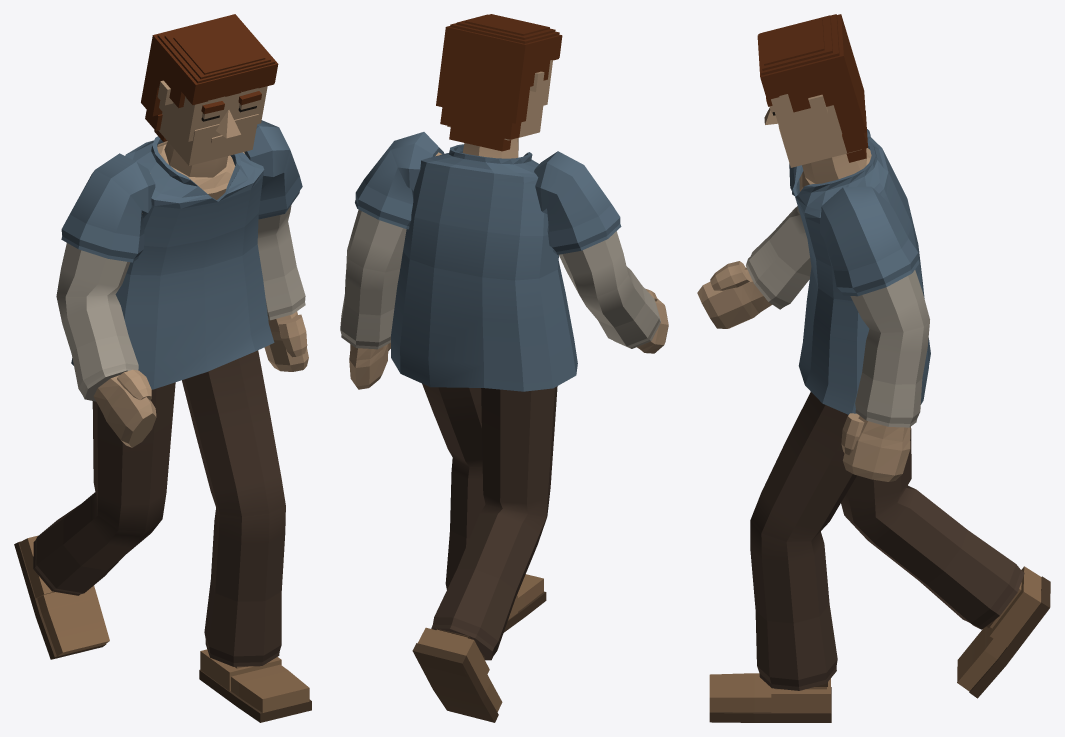
Rendered from suburban-resident-a9db9c__walk1.glb.
3 views of the same model, side by side, from view 1: azimuth 30°, elevation 25°; view 2: azimuth 150°, elevation 25°; view 3: azimuth 270°, elevation 25° (orthographic). The views are drawn at different scales.
Visible parts, largest first — view 1: suburban-resident-a9db9c__walk1; view 2: suburban-resident-a9db9c__walk1; view 3: suburban-resident-a9db9c__walk1.
Boxes of the visible parts, x1=… form: suburban-resident-a9db9c__walk1: x1=14, y1=14, x2=311, y2=722; suburban-resident-a9db9c__walk1: x1=340, y1=14, x2=668, y2=722; suburban-resident-a9db9c__walk1: x1=697, y1=14, x2=1050, y2=722.
Size of the model in its own units: 0.75 by 1.72 by 0.8116.
